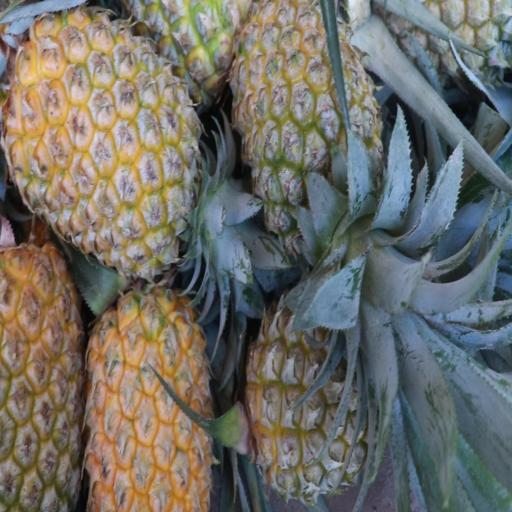------------------------------: (233, 4, 376, 242), (250, 289, 386, 491)
Pineapple - v8 v1: (10, 12, 193, 260), (88, 279, 211, 512), (0, 247, 87, 508)
